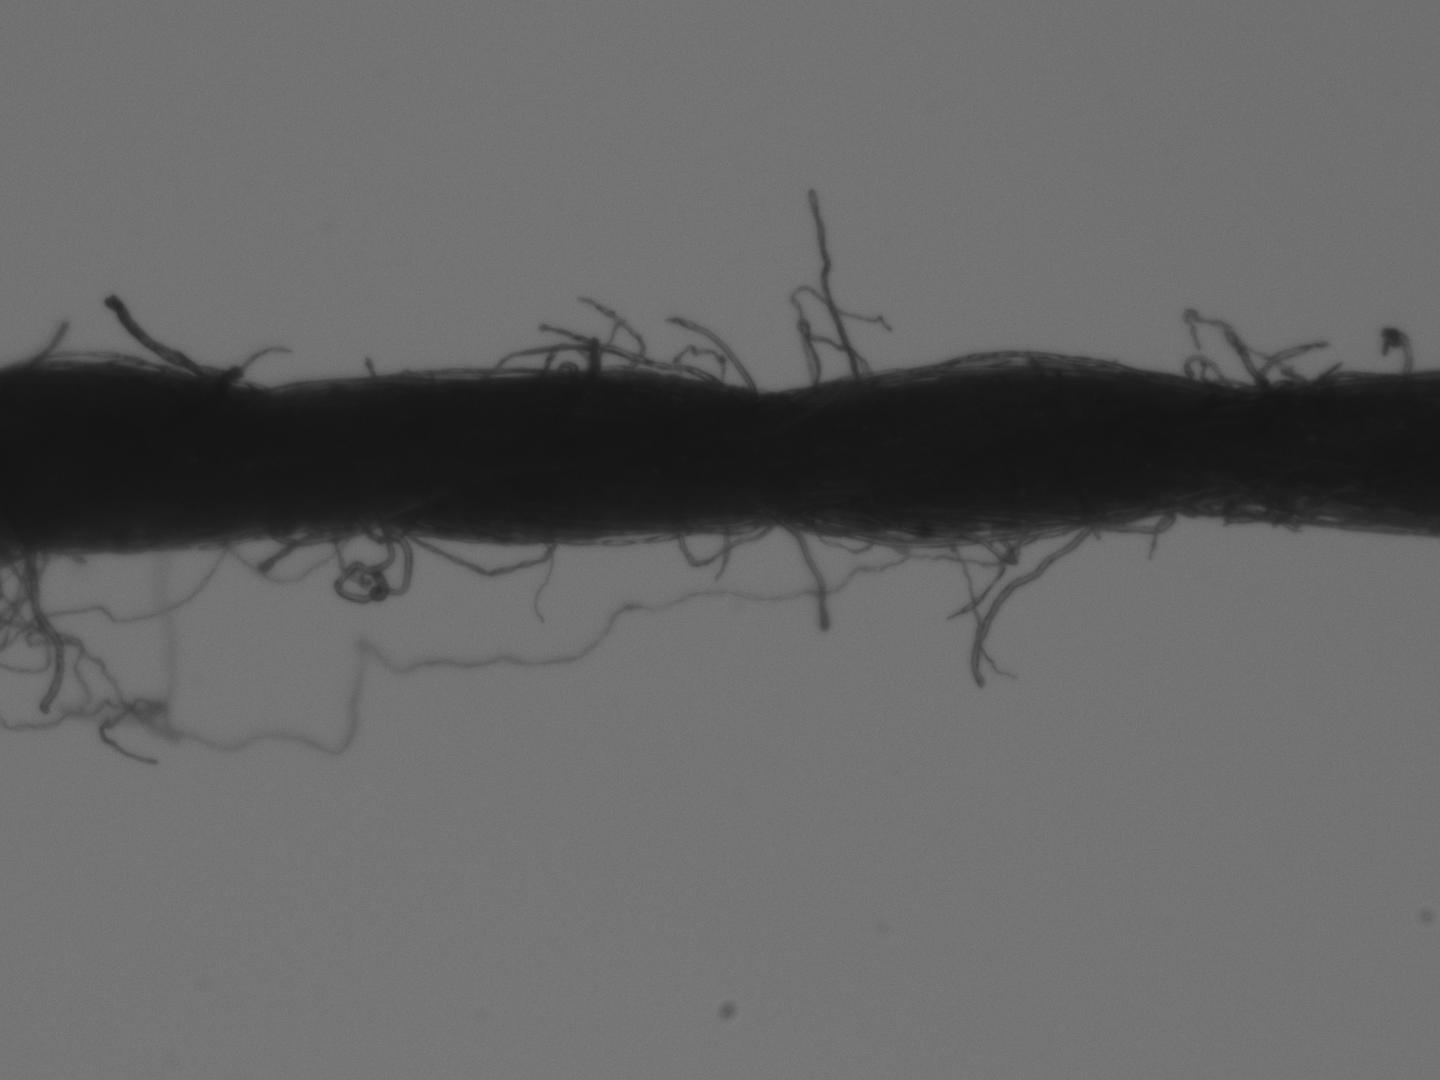loop_fiber: (489, 339, 709, 378), (397, 524, 558, 575), (840, 522, 1043, 552), (667, 525, 771, 569), (803, 327, 870, 387), (330, 518, 393, 574), (1086, 506, 1168, 537), (261, 522, 353, 547), (1187, 354, 1236, 391)
protruding_fiber: (969, 520, 1102, 686), (807, 186, 858, 373), (670, 307, 755, 396), (783, 521, 831, 631), (249, 524, 314, 581), (1225, 328, 1271, 391), (23, 318, 69, 368)
